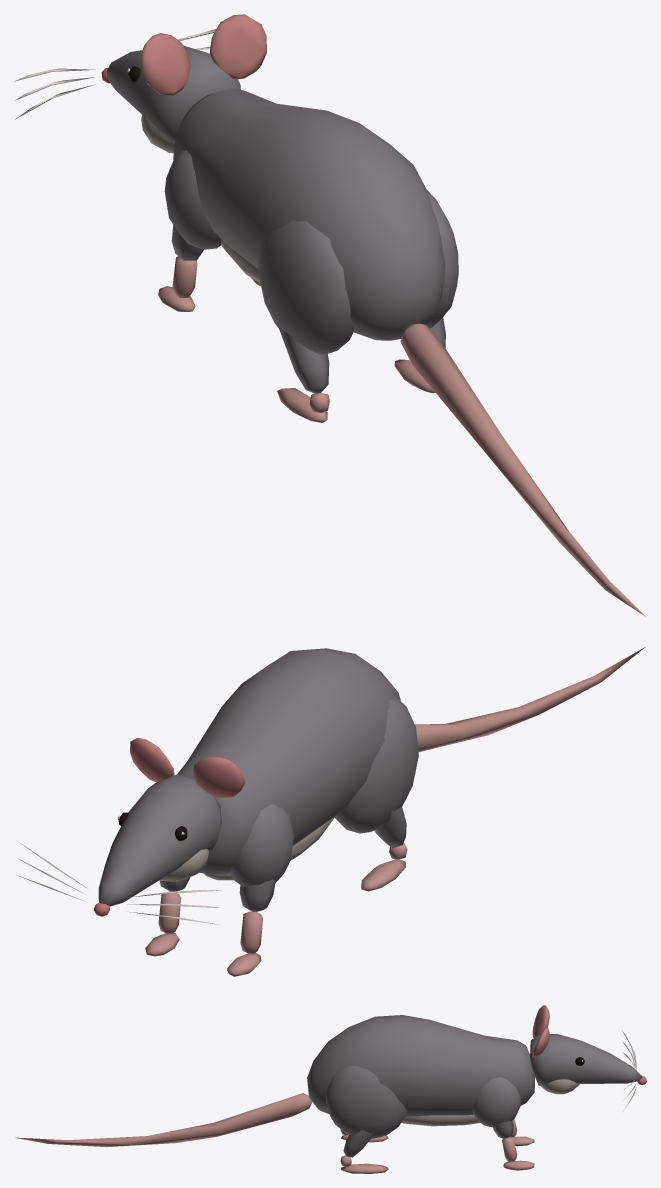
Rendered from rats.glb.
The picture shows the model from 3 angles, top to bottom: view 1: azimuth 30°, elevation 25°; view 2: azimuth 150°, elevation 25°; view 3: azimuth 270°, elevation 25°; orthographic projection. The views are drawn at different scales.
Visible parts, largest first — view 1: Body.001, Tail, LegBR, LegFR, LegBL; view 2: Body.001, Tail, LegFR, LegBR, LegFL; view 3: Body.001, Tail, LegBL, LegFL.
Boxes of the visible parts, x1,y1,x2,y2 form: Body.001: (15, 14, 458, 354); Tail: (400, 323, 645, 616); LegBR: (276, 321, 329, 422); LegFR: (158, 225, 203, 311); LegBL: (394, 317, 445, 393); Body.001: (16, 648, 418, 924); Tail: (415, 647, 645, 751); LegFR: (227, 879, 275, 976); LegBR: (361, 806, 407, 891); LegFL: (145, 877, 190, 956); Body.001: (307, 1005, 646, 1138); Tail: (15, 1093, 312, 1147); LegBL: (340, 1130, 388, 1173); LegFL: (493, 1121, 534, 1170).
Bounding box in the file's own units: 0.2253 × 0.2363 × 0.9695.
